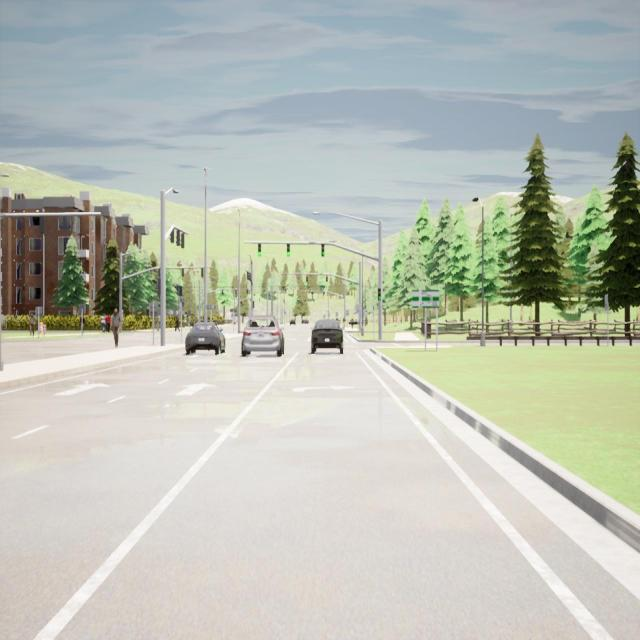Pedestrian: (110, 308, 122, 347), (29, 313, 35, 337), (101, 312, 106, 333), (174, 315, 180, 332), (106, 314, 111, 332), (350, 316, 354, 329)
Traffic_Signs: (411, 291, 439, 307), (150, 302, 157, 316), (204, 306, 217, 310), (80, 305, 85, 314), (36, 308, 41, 316)
Vehicle: (242, 315, 284, 357), (186, 324, 227, 354), (310, 320, 344, 354), (290, 319, 296, 326), (301, 319, 309, 324)
traffic_light: (176, 229, 180, 246), (258, 242, 262, 257), (321, 243, 325, 257), (378, 288, 382, 301), (286, 243, 290, 256), (181, 232, 184, 248), (170, 230, 173, 242), (181, 266, 184, 278), (200, 266, 202, 277), (306, 273, 308, 282), (326, 273, 328, 282), (248, 273, 250, 279), (247, 272, 248, 279), (253, 301, 254, 308), (250, 274, 251, 280)
